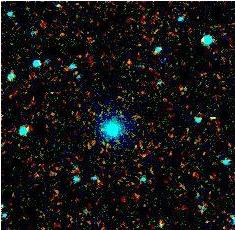star: (195, 108, 225, 138)
